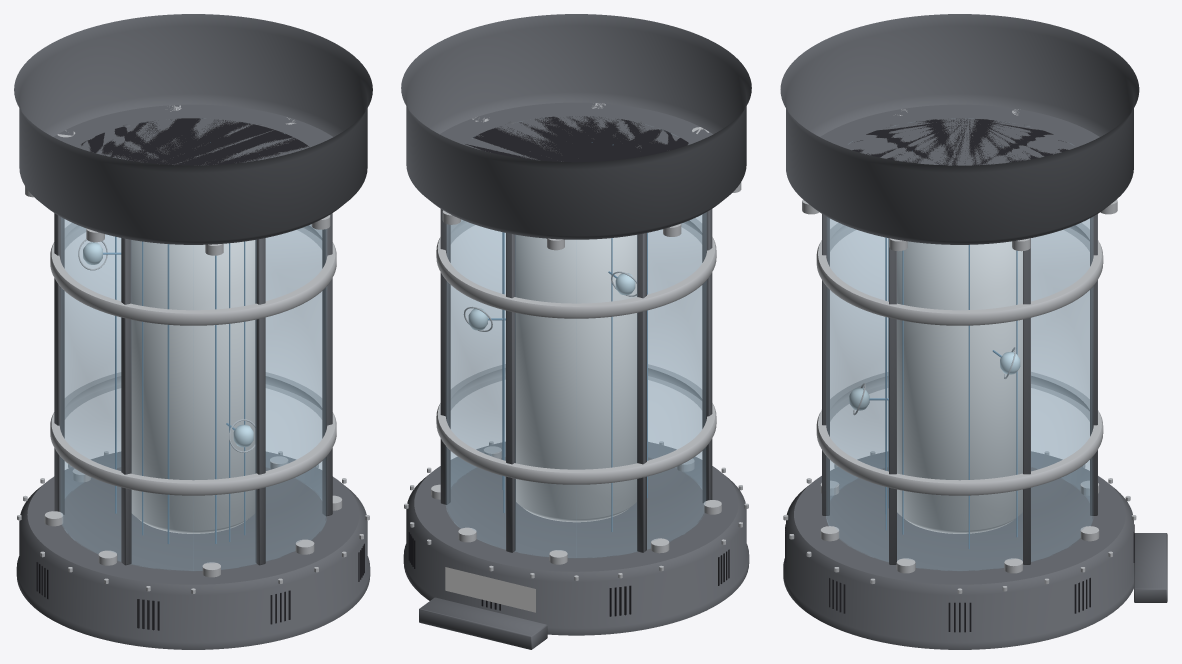
File: SystemRoom_Core.fbx
3 renders of one model, left to right at view 1: azimuth 30°, elevation 25°; view 2: azimuth 150°, elevation 25°; view 3: azimuth 270°, elevation 25°, orthographic. The views are drawn at different scales.
Parts seen in each view (by area): view 1: SystemRoom_Core; view 2: SystemRoom_Core; view 3: SystemRoom_Core.
Part boxes in pixels (bbox=[...]): SystemRoom_Core: bbox=[14, 14, 372, 649]; SystemRoom_Core: bbox=[401, 14, 751, 649]; SystemRoom_Core: bbox=[780, 14, 1167, 649].
Size of the model in its own units: 2.68 by 4 by 2.89.
